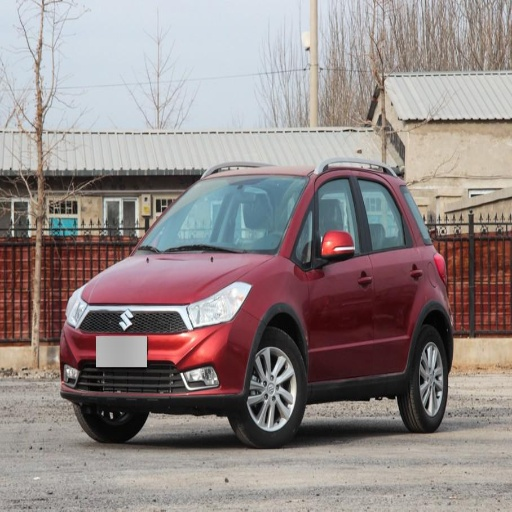front_bumper: (64, 302, 260, 407)
front_glass: (139, 176, 307, 252)
front_left_door: (298, 171, 374, 382)
